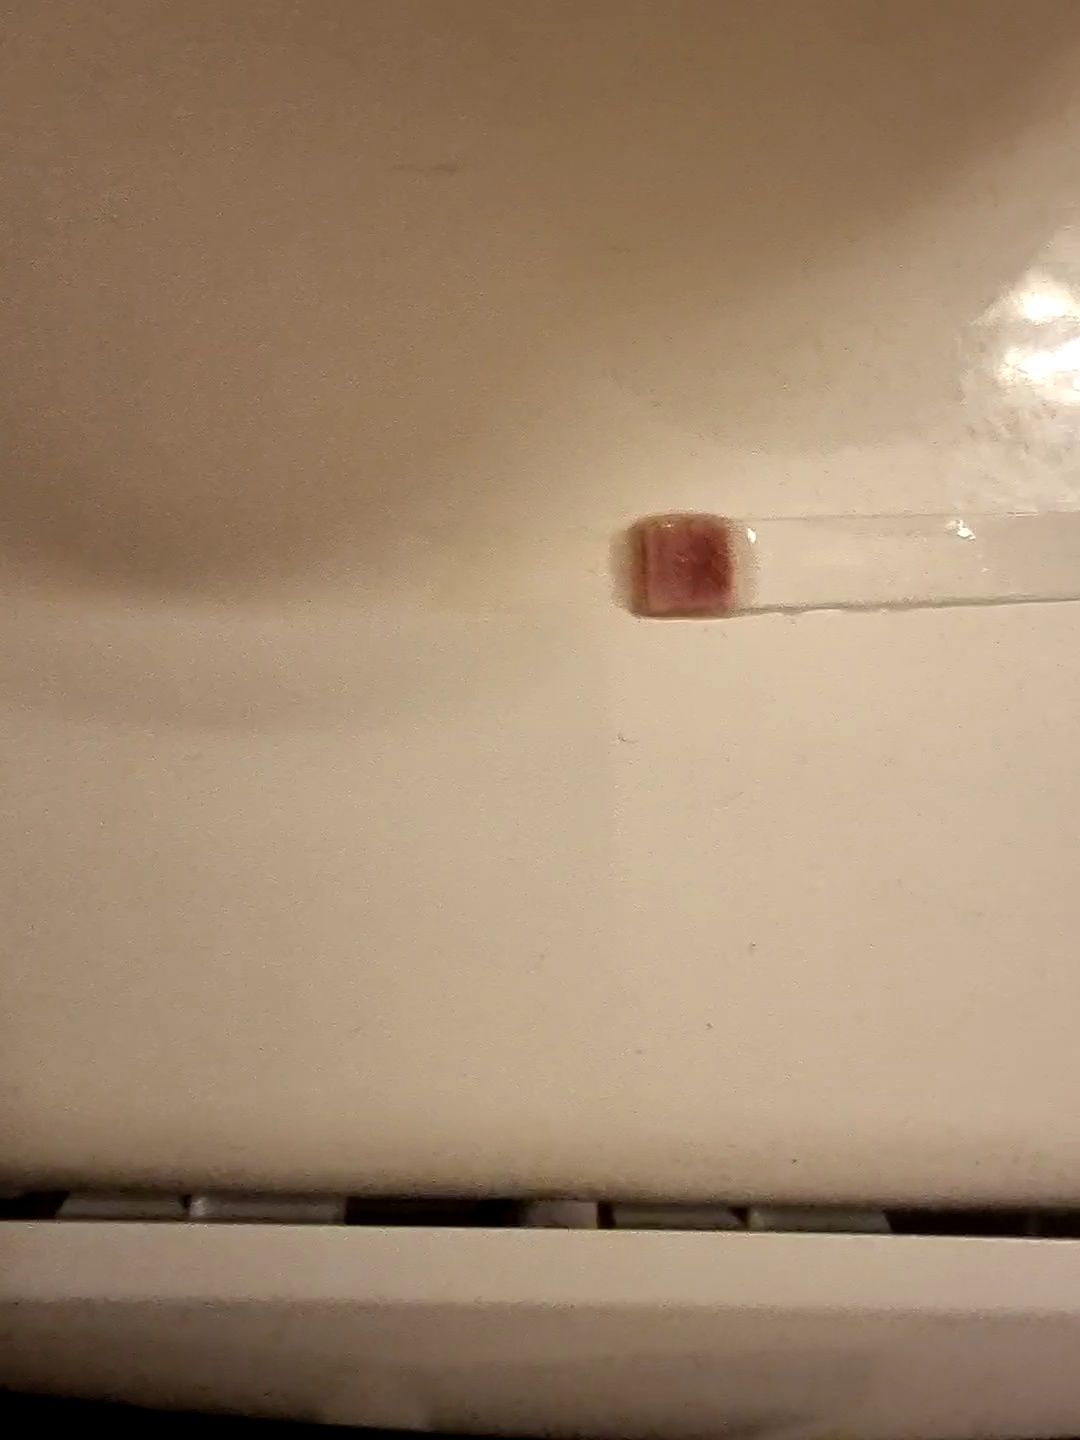keto-tip: (628, 511, 757, 622)
